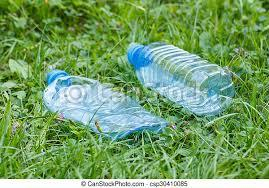plastic: (29, 59, 187, 142), (118, 30, 249, 116)
